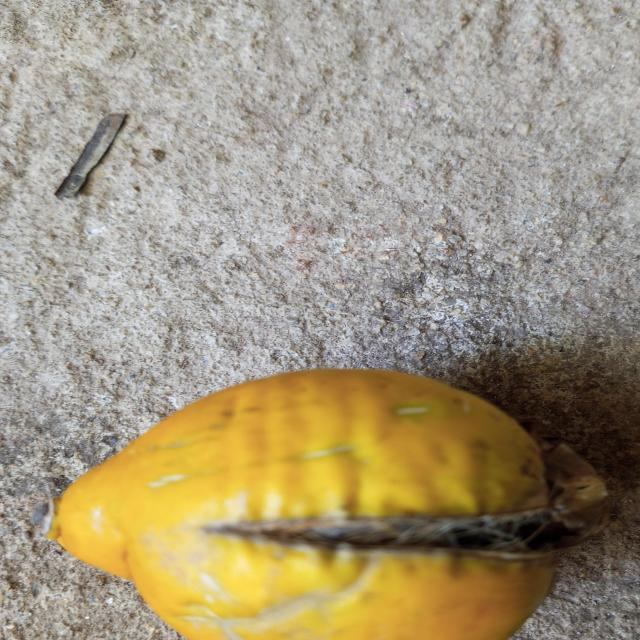damaged: (39, 369, 610, 640)
